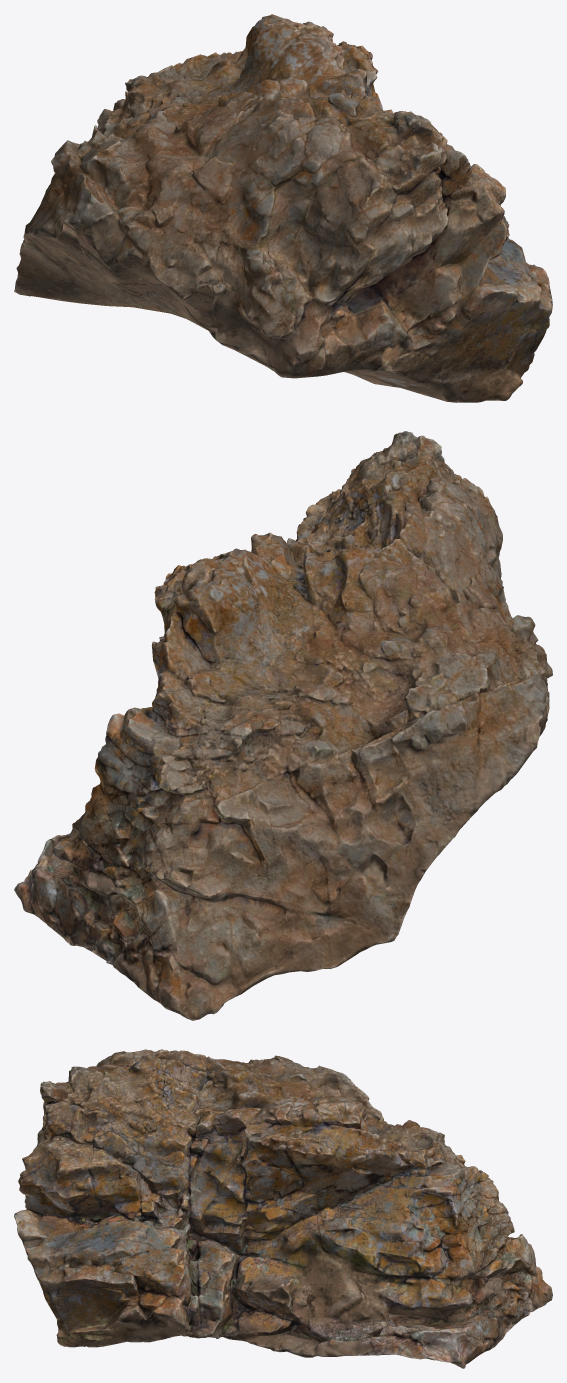
File: boulder.glb
3 views of the same model, one above another, from view 1: azimuth 30°, elevation 25°; view 2: azimuth 150°, elevation 25°; view 3: azimuth 270°, elevation 25° (orthographic). The views are drawn at different scales.
Visible parts, largest first — view 1: boulder_01; view 2: boulder_01; view 3: boulder_01.
Part boxes in pixels (bbox=[...]): boulder_01: bbox=[14, 14, 552, 402]; boulder_01: bbox=[14, 431, 552, 1020]; boulder_01: bbox=[14, 1049, 552, 1368].
Bounding box in the file's own units: 1.27 × 1 × 1.83.
1 material, 1 textured.
